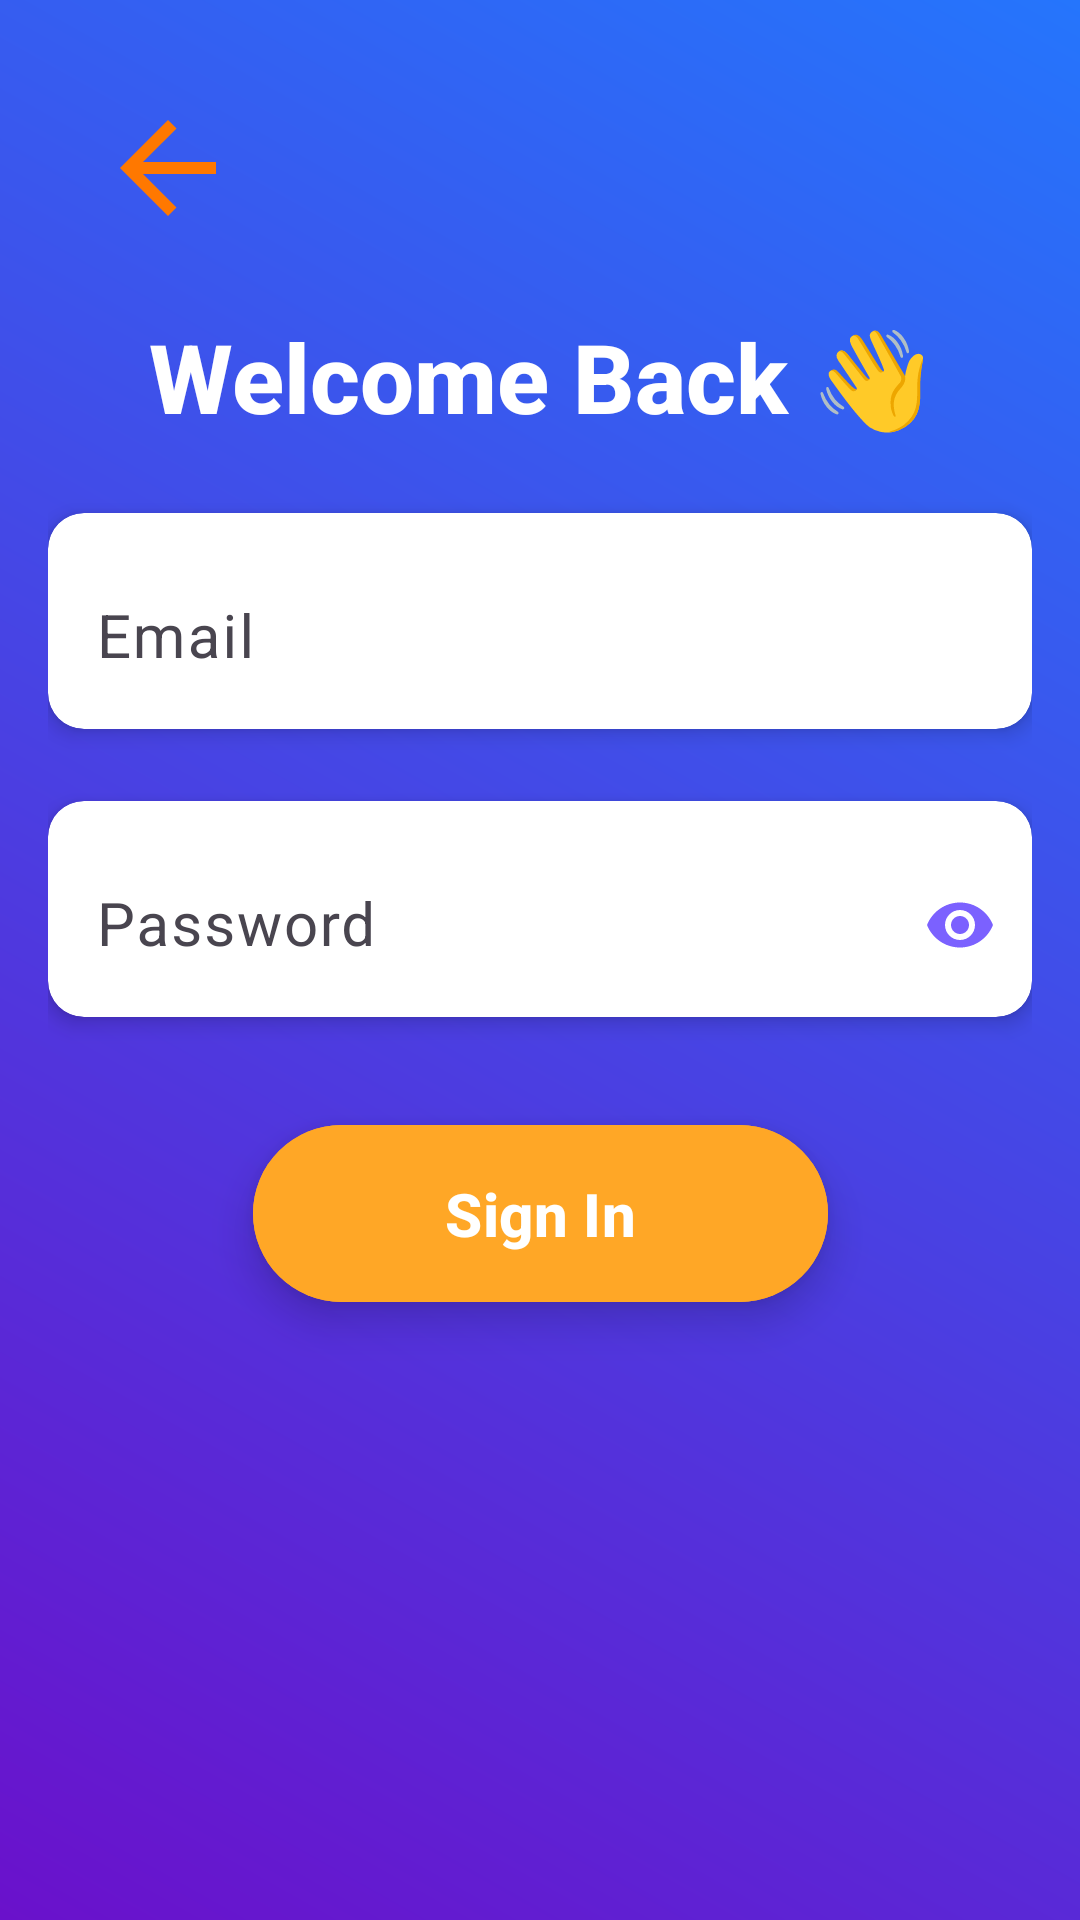

Named icons in this screenshot (1080 x 1920) and their centers, (x,y):
Go Back: (168,168)
